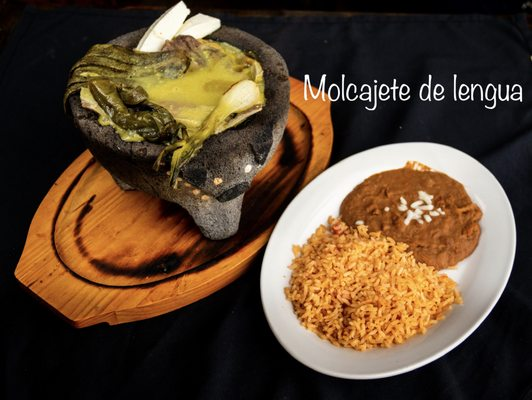sushi: (8, 14, 315, 329), (258, 141, 517, 380)
